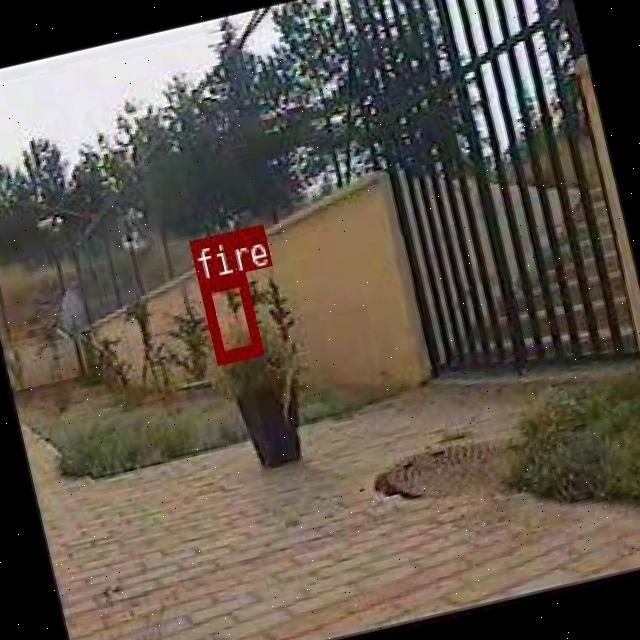fire: (198, 272, 261, 362)
